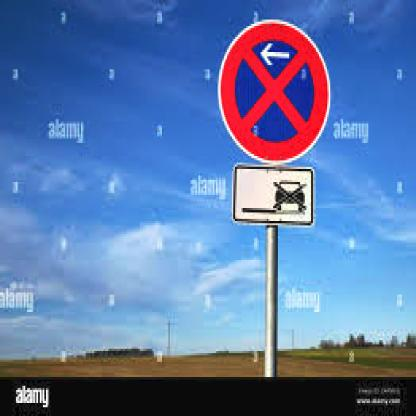No stopping: (218, 16, 332, 165)
